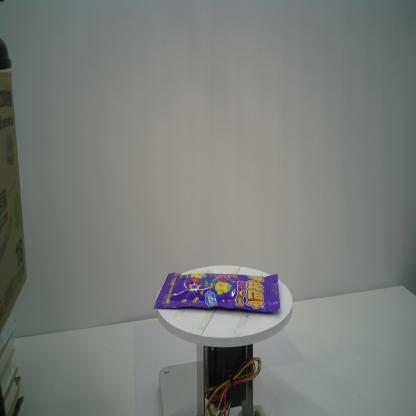Candy: (152, 271, 281, 316)
